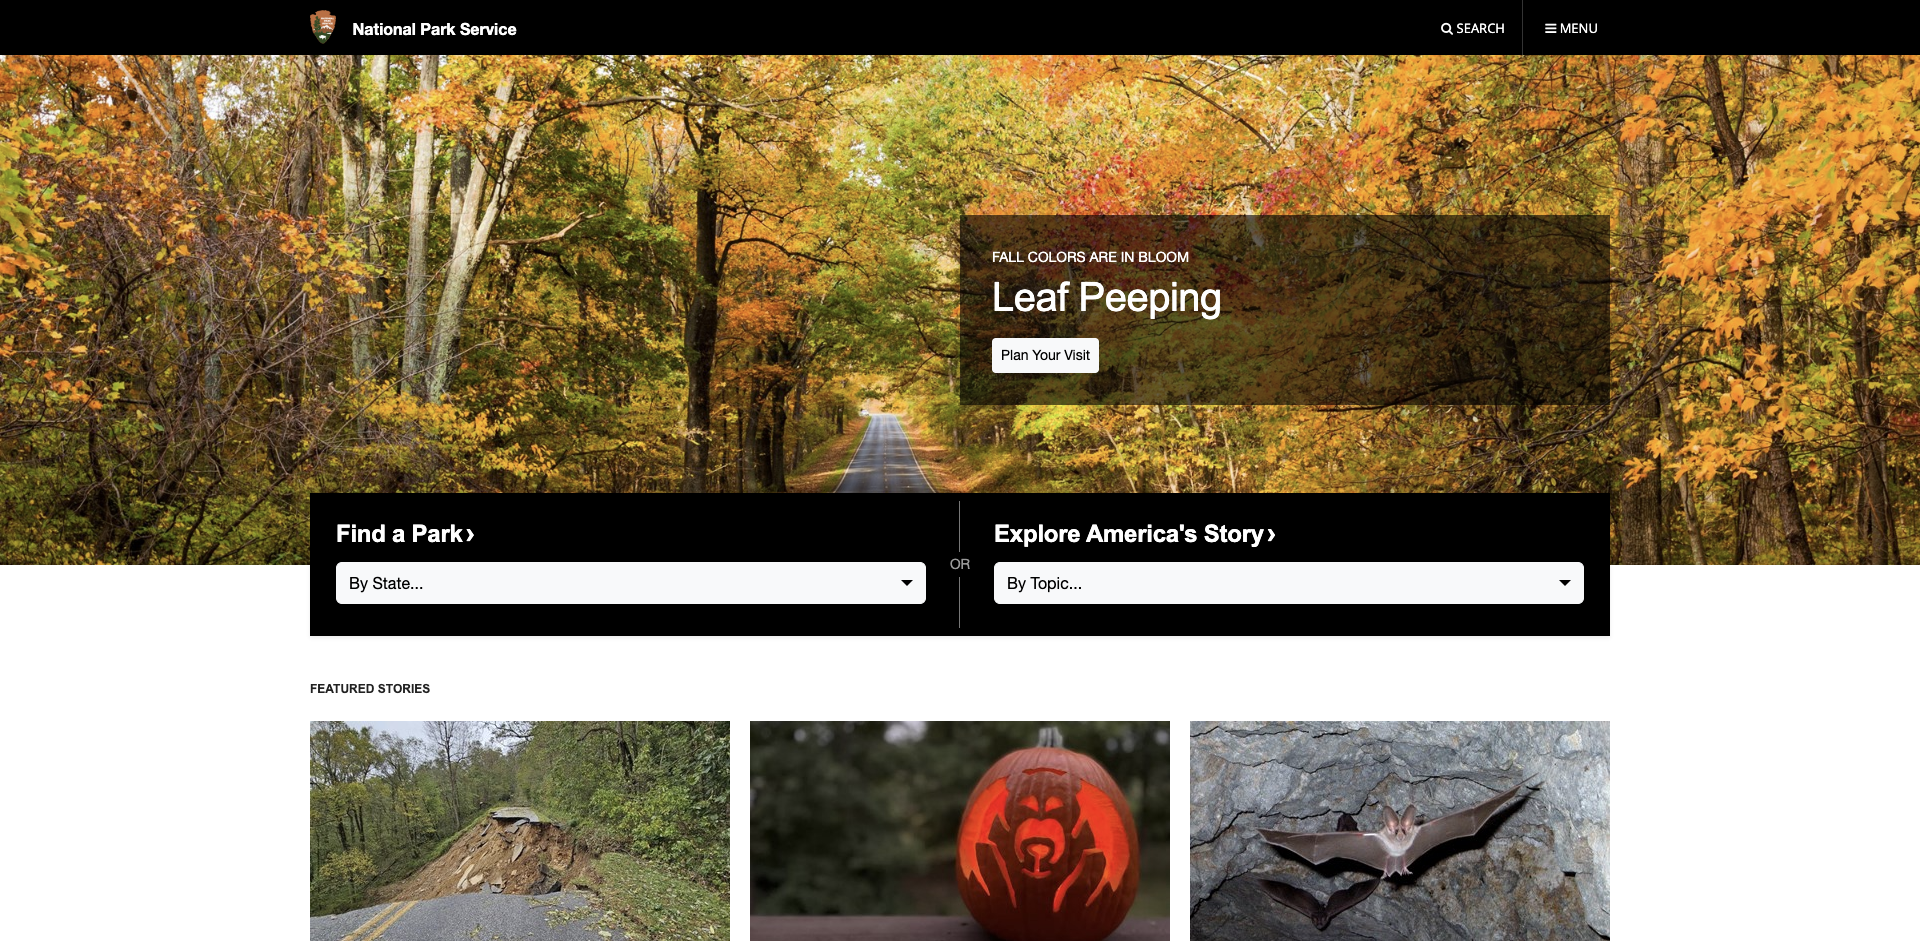button: (336, 562, 926, 604), (994, 562, 1584, 604), (1424, 0, 1522, 55), (1522, 0, 1620, 55), (992, 338, 1100, 372)
dropdown: (336, 562, 926, 604), (994, 562, 1584, 604)
link: (749, 720, 1171, 941), (310, 720, 730, 941), (1190, 720, 1610, 941), (300, 0, 527, 55), (994, 520, 1276, 546), (336, 520, 474, 546)
